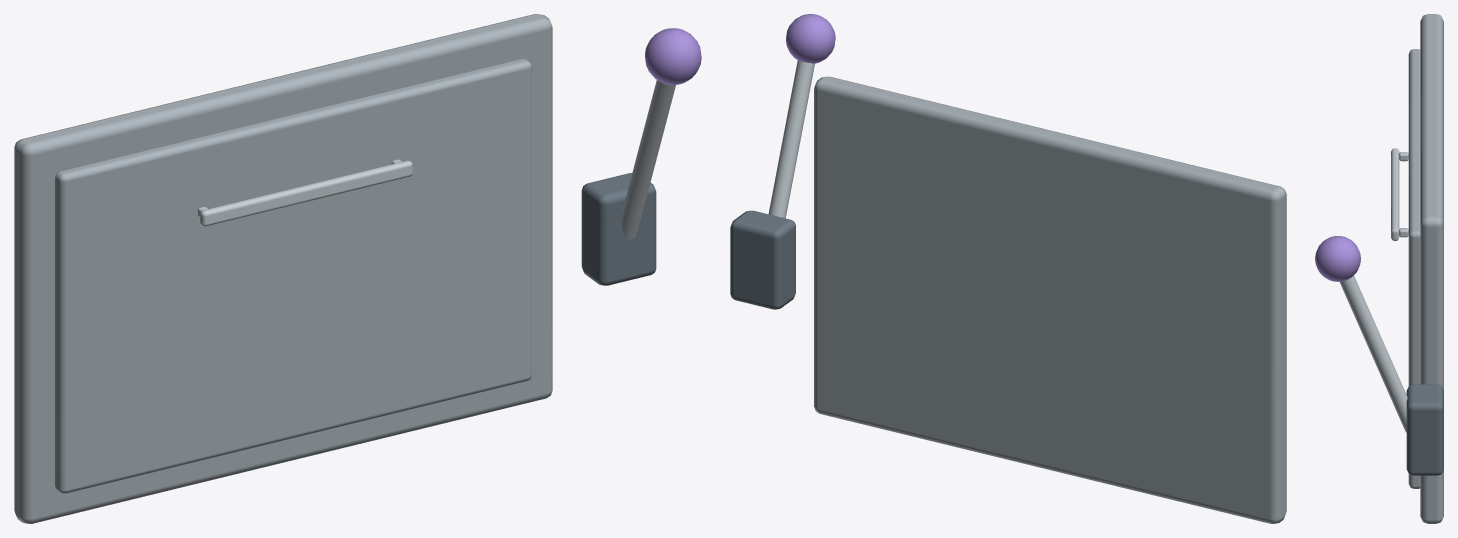
The model's file is SM_StockHatch.glb.
The picture shows the model from 3 angles, left to right: view 1: azimuth 30°, elevation 25°; view 2: azimuth 150°, elevation 25°; view 3: azimuth 270°, elevation 25°; orthographic projection. The views are drawn at different scales.
Visible parts, largest first — view 1: SM_StockHatch.Drawer, SM_StockHatch, SM_StockHatch.Lever; view 2: SM_StockHatch, SM_StockHatch.Lever; view 3: SM_StockHatch, SM_StockHatch.Drawer, SM_StockHatch.Lever.
Boxes of the visible parts, x1=… form: SM_StockHatch.Drawer: x1=55, y1=59, x2=531, y2=493; SM_StockHatch: x1=14, y1=14, x2=656, y2=523; SM_StockHatch.Lever: x1=622, y1=28, x2=701, y2=240; SM_StockHatch: x1=730, y1=76, x2=1286, y2=523; SM_StockHatch.Lever: x1=768, y1=14, x2=835, y2=218; SM_StockHatch: x1=1406, y1=14, x2=1443, y2=523; SM_StockHatch.Drawer: x1=1391, y1=49, x2=1420, y2=488; SM_StockHatch.Lever: x1=1315, y1=236, x2=1407, y2=432.
Size of the model in its own units: 0.86 by 0.5126 by 0.1903.
3 materials, 3 textured.
